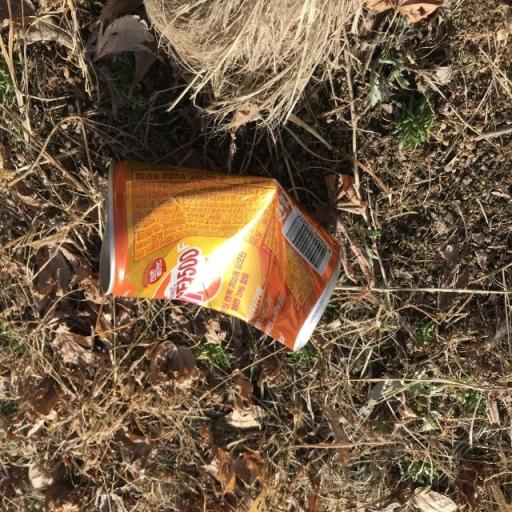metal: (80, 132, 360, 380)
